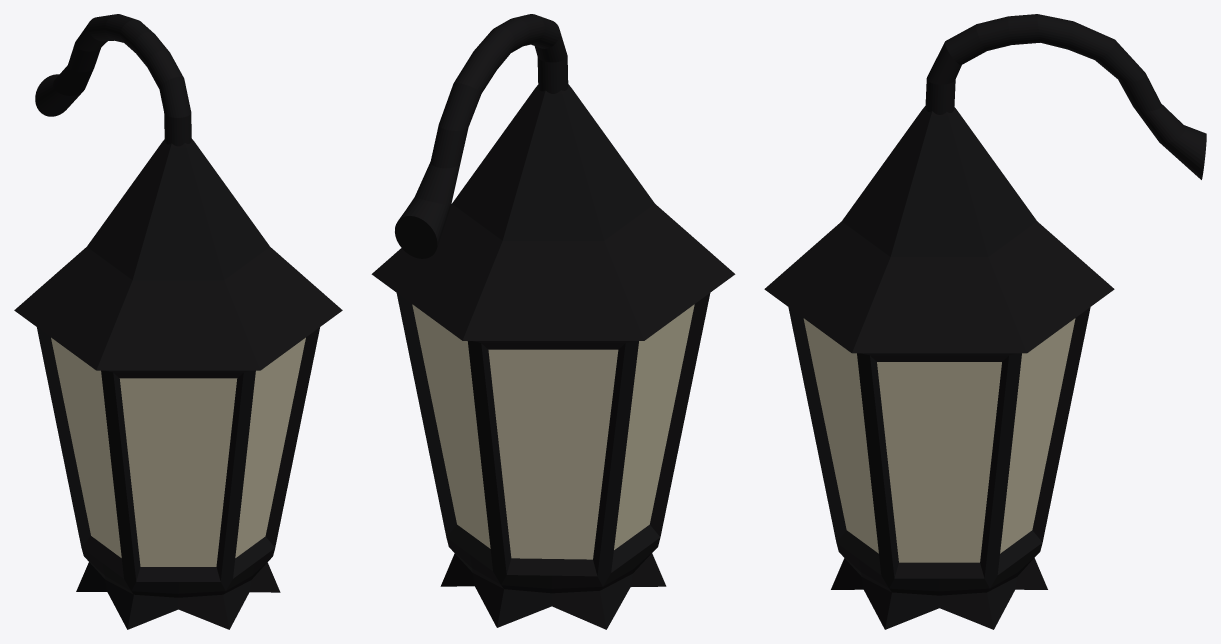
File: 2Lamp.fbx
3 views of the same model, side by side, from view 1: azimuth 30°, elevation 25°; view 2: azimuth 150°, elevation 25°; view 3: azimuth 270°, elevation 25° (orthographic). The views are drawn at different scales.
Visible parts, largest first — view 1: Cylinder; view 2: Cylinder; view 3: Cylinder.
Part boxes in pixels (x1=…): Cylinder: x1=14, y1=14, x2=342, y2=629; Cylinder: x1=371, y1=14, x2=735, y2=629; Cylinder: x1=764, y1=14, x2=1206, y2=629.
Bounding box in the file's own units: 300 × 628 × 438.
